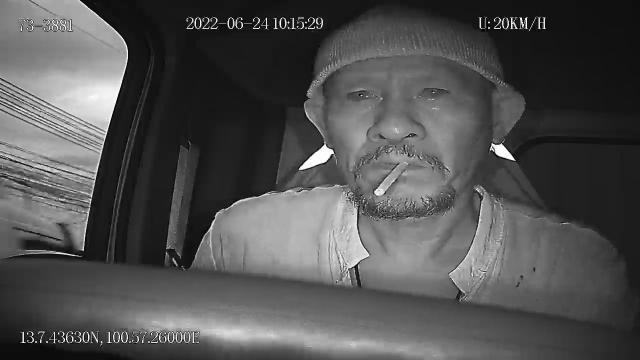SafeDriving: (405, 75, 457, 107), (336, 76, 386, 109)
Smoking: (373, 160, 411, 200)
